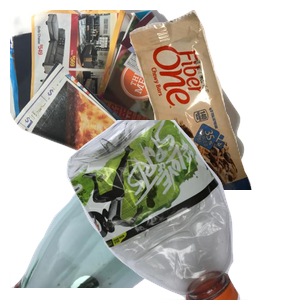glass: (10, 120, 224, 300)
paper: (10, 10, 250, 190)
plastic: (64, 120, 300, 300)
trash: (127, 10, 300, 190)
